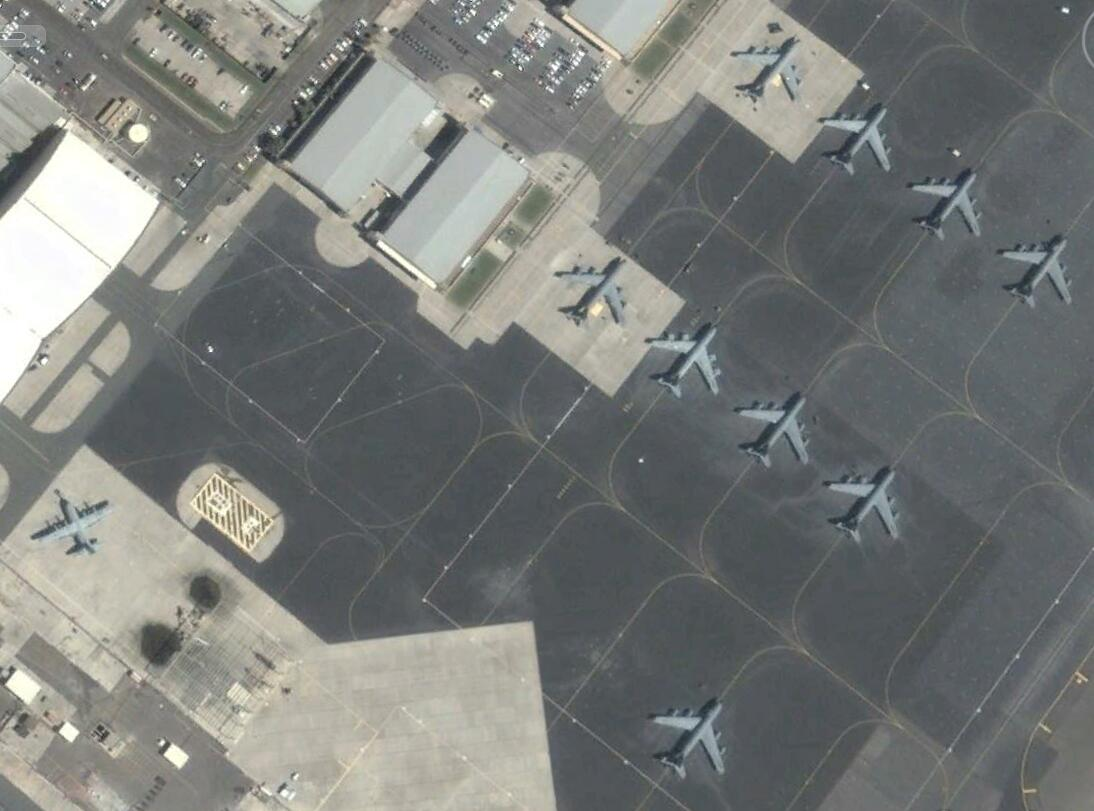A14: (653, 695, 732, 777), (818, 98, 897, 180), (647, 317, 726, 395), (912, 165, 988, 245), (829, 463, 904, 544), (739, 389, 815, 467), (556, 253, 633, 325), (1003, 235, 1077, 309), (733, 31, 806, 103)
A2: (29, 497, 121, 558)
